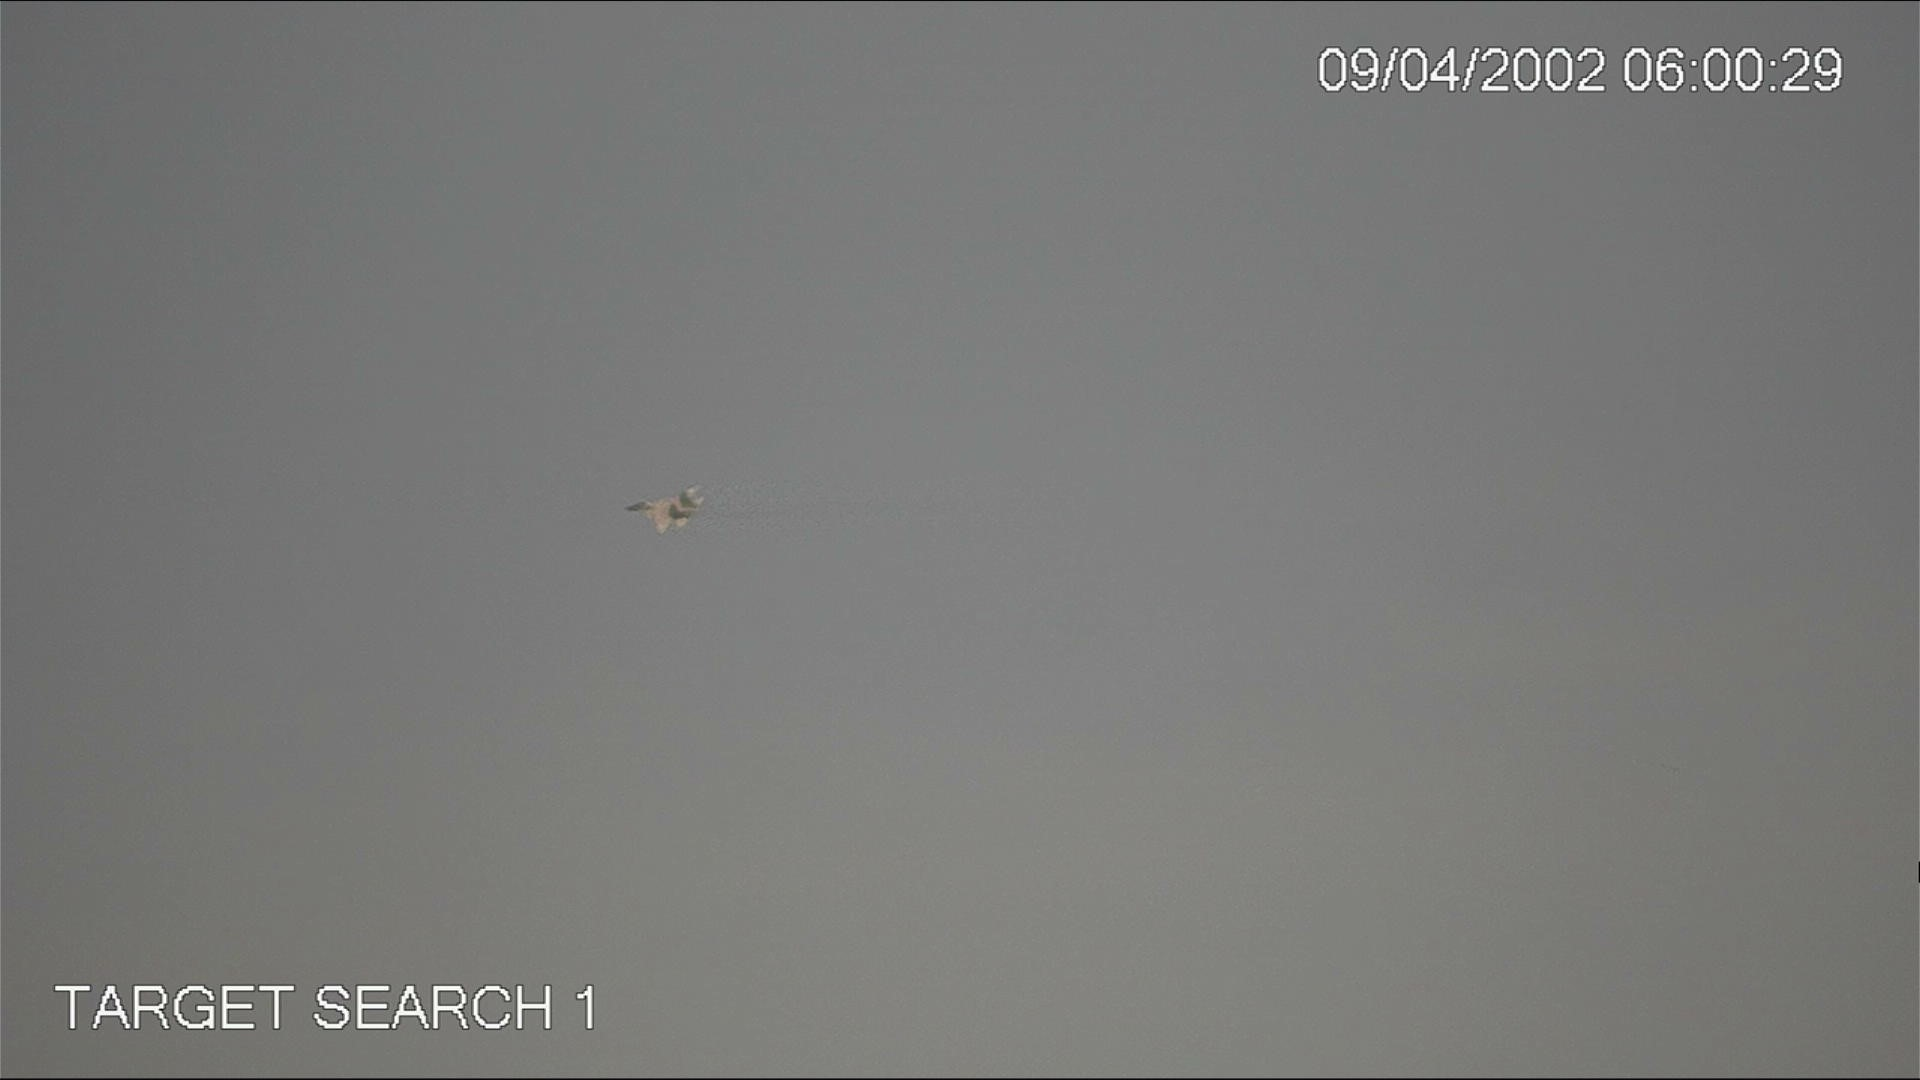SU_30: (621, 489, 708, 537)
